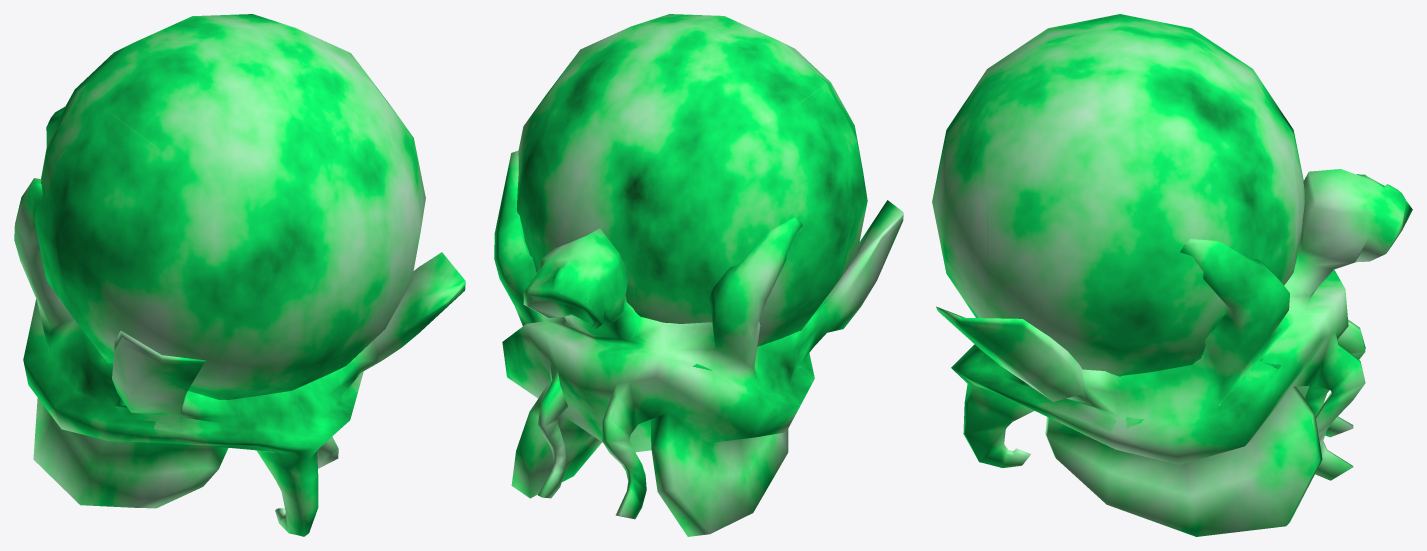
Rendered from RelicBall Bedawangi.fbx.
The picture shows the model from 3 angles, left to right: view 1: azimuth 30°, elevation 25°; view 2: azimuth 150°, elevation 25°; view 3: azimuth 270°, elevation 25°; orthographic projection. The views are drawn at different scales.
Visible parts, largest first — view 1: Relic Bedawang; view 2: Relic Bedawang; view 3: Relic Bedawang.
Boxes of the visible parts, <box> form: Relic Bedawang: <box>14,14,465,536</box>; Relic Bedawang: <box>494,14,903,536</box>; Relic Bedawang: <box>932,14,1412,536</box>.
Size of the model in its own units: 32.83 by 44.42 by 41.99.
